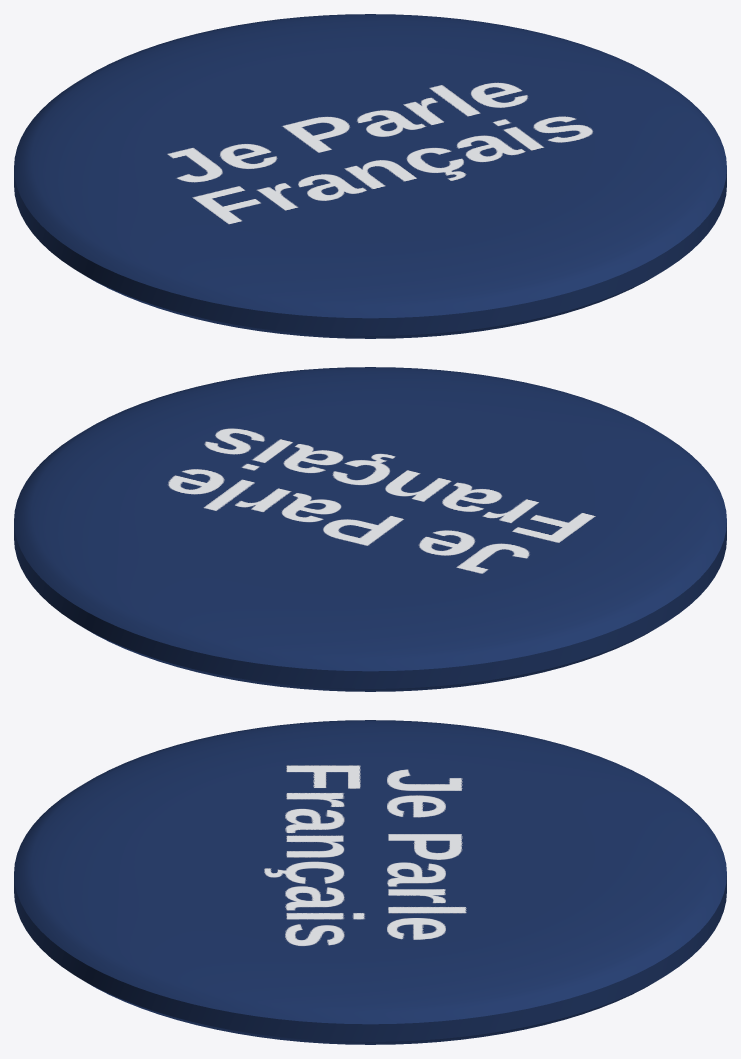
Rendered from je-parle-francais-badge.glb.
The picture shows the model from 3 angles, top to bottom: view 1: azimuth 30°, elevation 25°; view 2: azimuth 150°, elevation 25°; view 3: azimuth 270°, elevation 25°; orthographic projection.
Visible parts, largest first — view 1: JeParleFrancais_Badge; view 2: JeParleFrancais_Badge; view 3: JeParleFrancais_Badge.
Boxes of the visible parts, x1,y1,x2,y2 form: JeParleFrancais_Badge: (14, 14, 726, 338); JeParleFrancais_Badge: (14, 367, 726, 691); JeParleFrancais_Badge: (14, 720, 726, 1044).
Bounding box in the file's own units: 4 × 0.34 × 4.
Materials: 2 (2 with a texture image).
